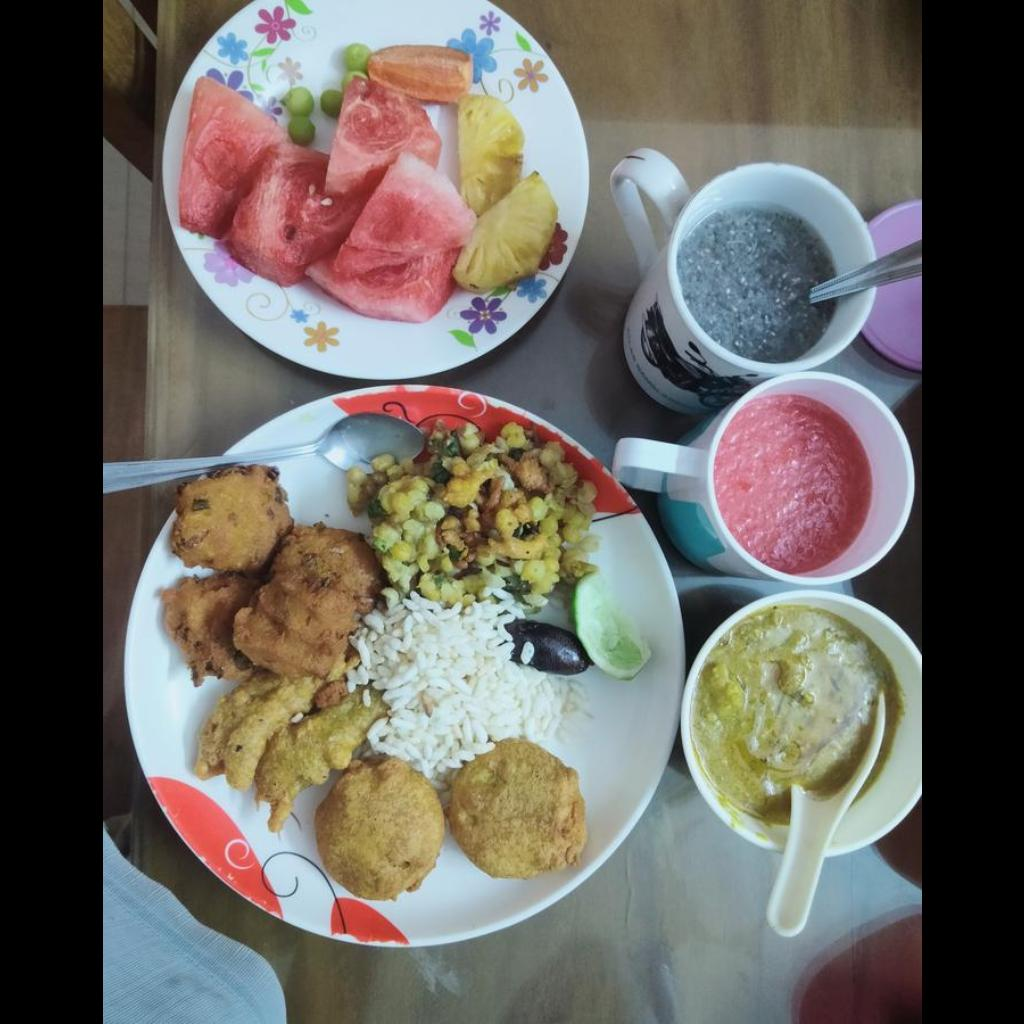chop-alu: (317, 746, 586, 897), (194, 672, 383, 831)
daal: (347, 422, 594, 608), (690, 604, 887, 829)
dates: (504, 619, 590, 675)
juice: (714, 396, 871, 575), (678, 209, 839, 347)
lemon: (571, 571, 649, 679)
peyaju: (164, 470, 374, 683)
pineapple: (455, 99, 567, 286)
puffed-rice: (348, 593, 584, 786)
watermelon: (172, 76, 470, 328)
